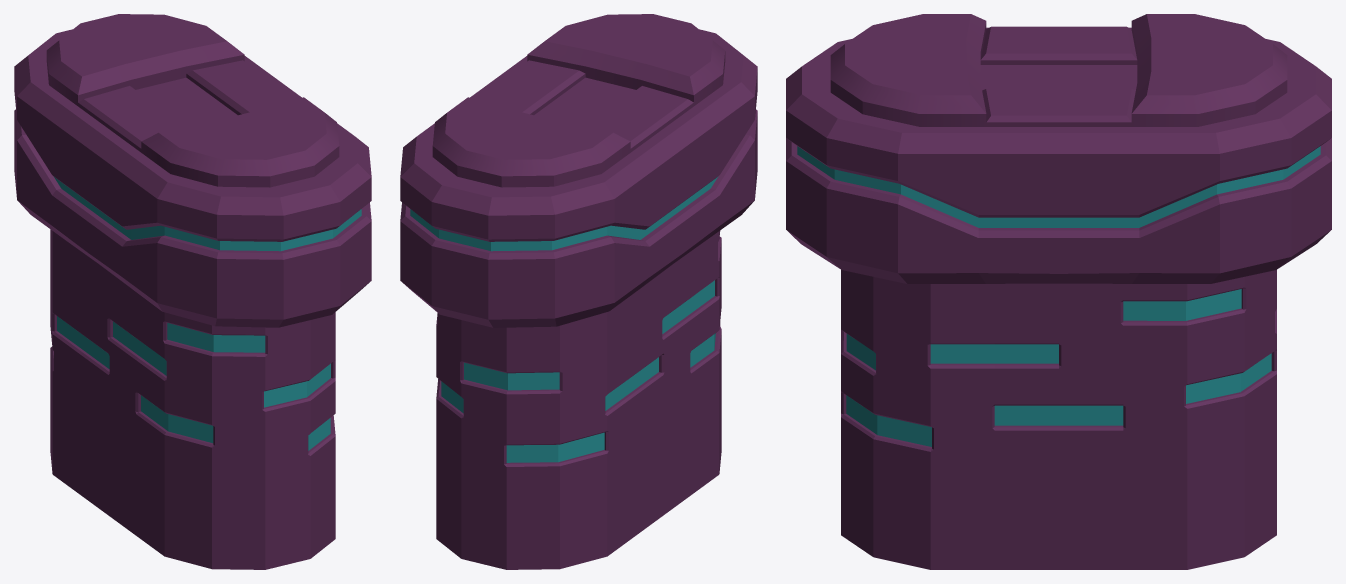
The model's file is BuildingC.fbx.
3 renders of one model, left to right at view 1: azimuth 30°, elevation 25°; view 2: azimuth 150°, elevation 25°; view 3: azimuth 270°, elevation 25°, orthographic. The views are drawn at different scales.
Visible parts, largest first — view 1: BuildingC; view 2: BuildingC; view 3: BuildingC.
Part boxes in pixels (box(x1,y1,x2,y2)): BuildingC: box(14, 14, 371, 569); BuildingC: box(400, 14, 757, 569); BuildingC: box(786, 14, 1331, 569).
Bounding box in the file's own units: 459 × 846 × 894.
